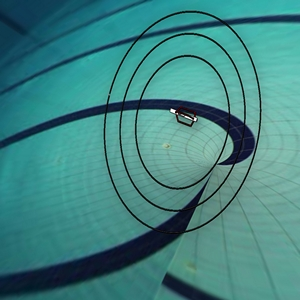circle: (89, 3, 275, 241)
submarine: (160, 97, 210, 141)
